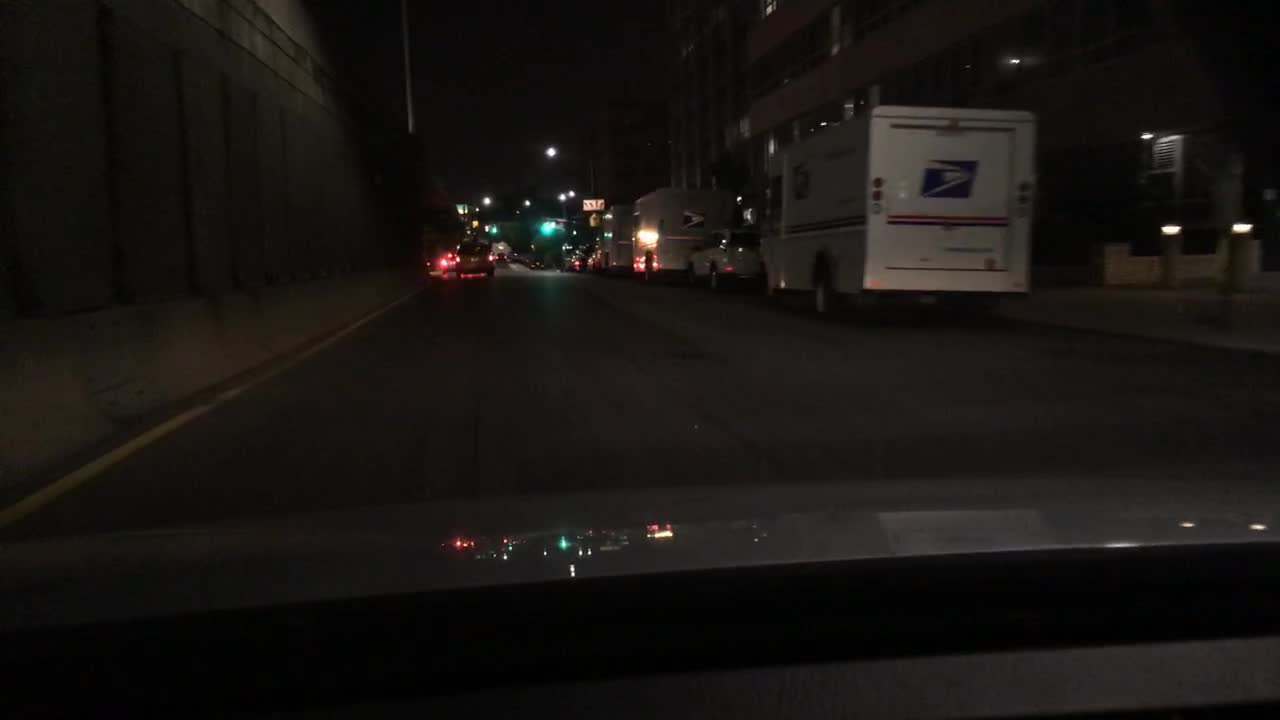car: (687, 227, 764, 290), (454, 238, 496, 279), (566, 254, 594, 271), (440, 251, 458, 274), (528, 258, 547, 270), (510, 251, 521, 263), (518, 254, 530, 265), (495, 252, 506, 264), (497, 243, 505, 251)
traffic light: (540, 218, 555, 235), (485, 223, 500, 236)
traffic sign: (581, 199, 604, 210), (589, 212, 601, 226), (455, 203, 468, 213), (472, 219, 479, 228)
truck: (752, 99, 1040, 319), (631, 186, 732, 282), (592, 203, 635, 274)
